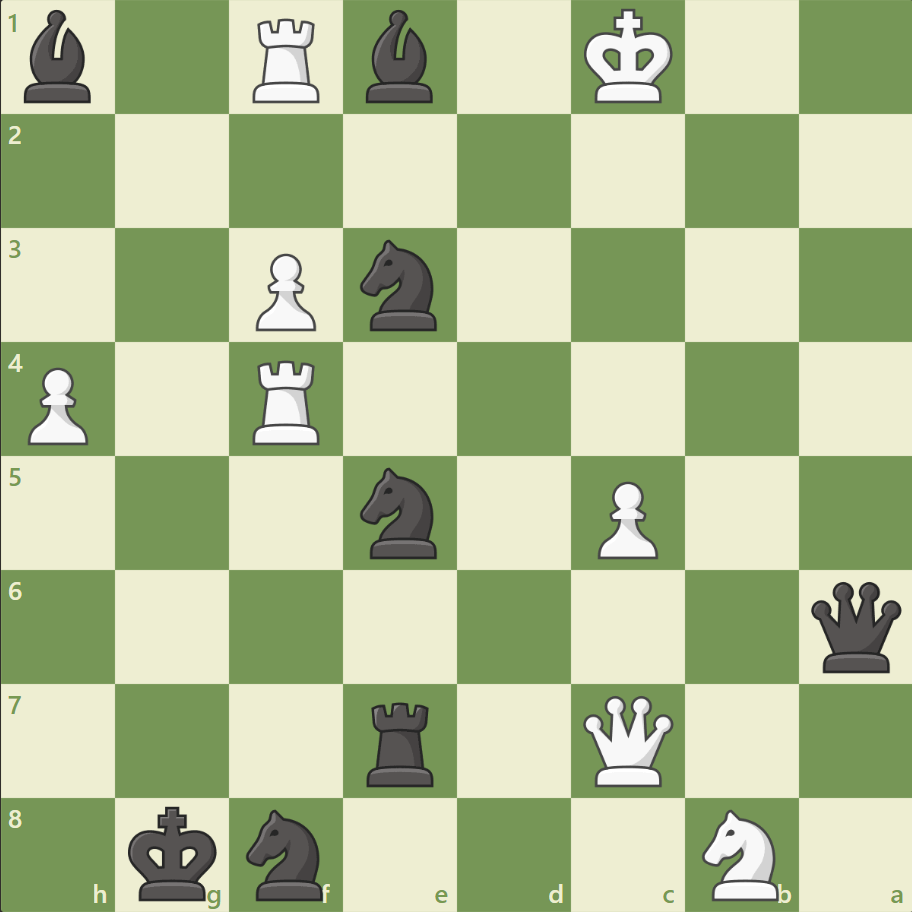K: (579, 4, 679, 112)
N: (692, 802, 789, 904)
P: (20, 359, 95, 450), (247, 246, 322, 337), (588, 473, 662, 564)
Q: (578, 690, 677, 789)
R: (246, 352, 329, 449), (246, 12, 329, 109)
b: (358, 6, 442, 109), (17, 6, 101, 109)
k: (124, 798, 224, 906)
n: (351, 461, 449, 564), (351, 234, 449, 337), (238, 802, 335, 904)
q: (805, 576, 904, 676)
r: (360, 693, 442, 790)
